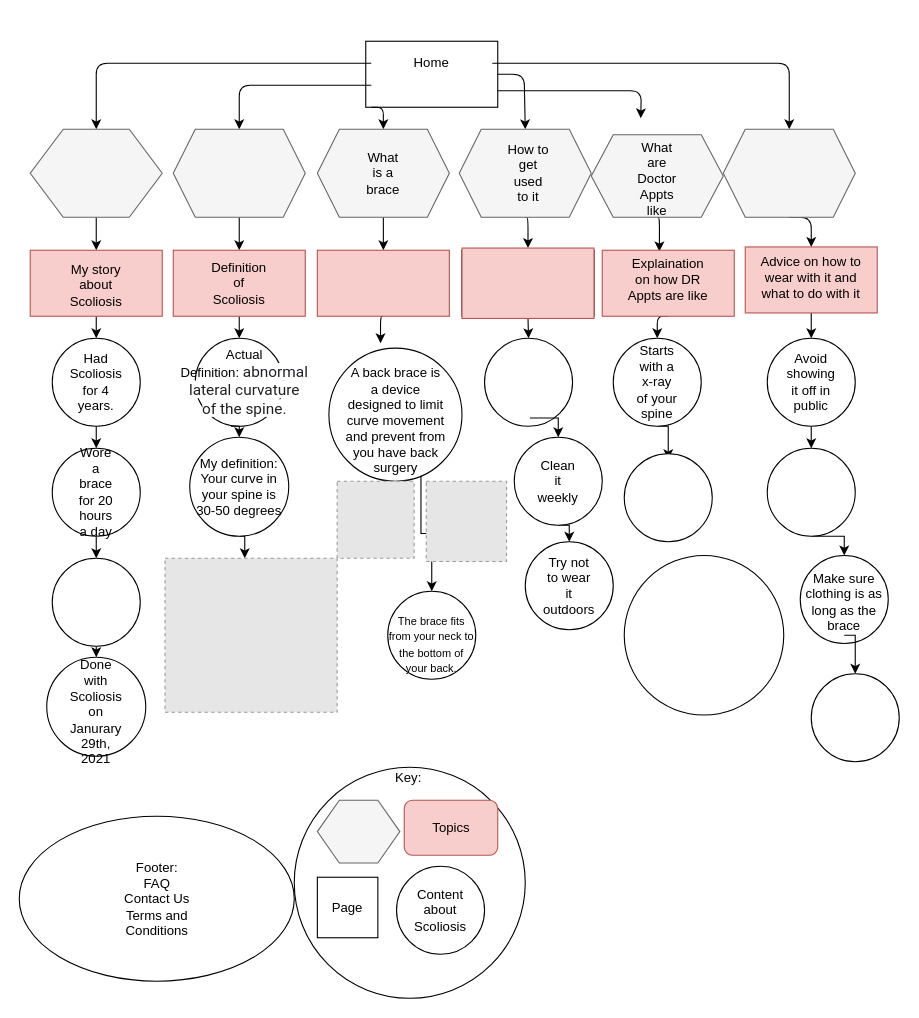
Some shapes in this 919 by 1018 pixel diagram are drawn without their labels. Grey dashed boxes stand in for pictures. Each missing label, with the centre of its shape:
"About" goes at point 95,172.
"Always wear it when you can" goes at point 854,717.
"Definition of a brace" goes at point 382,282.
"Diagonised on October 27th, 2016" goes at point 95,601.
"Header" goes at point 358,831.
"How to talk about the brace" goes at point 788,172.
"Lay on your side while laying in bed" goes at point 528,381.
"Then you go see the back doctor" goes at point 667,497.
"Then you if need brace changes, you go see your brace fitting doctor" goes at point 703,634.
"Tricks on how to get used to it" goes at point 527,282.
"Wear soft clothing over brace" goes at point 810,491.
"What is Scoliosis" goes at point 238,172.
